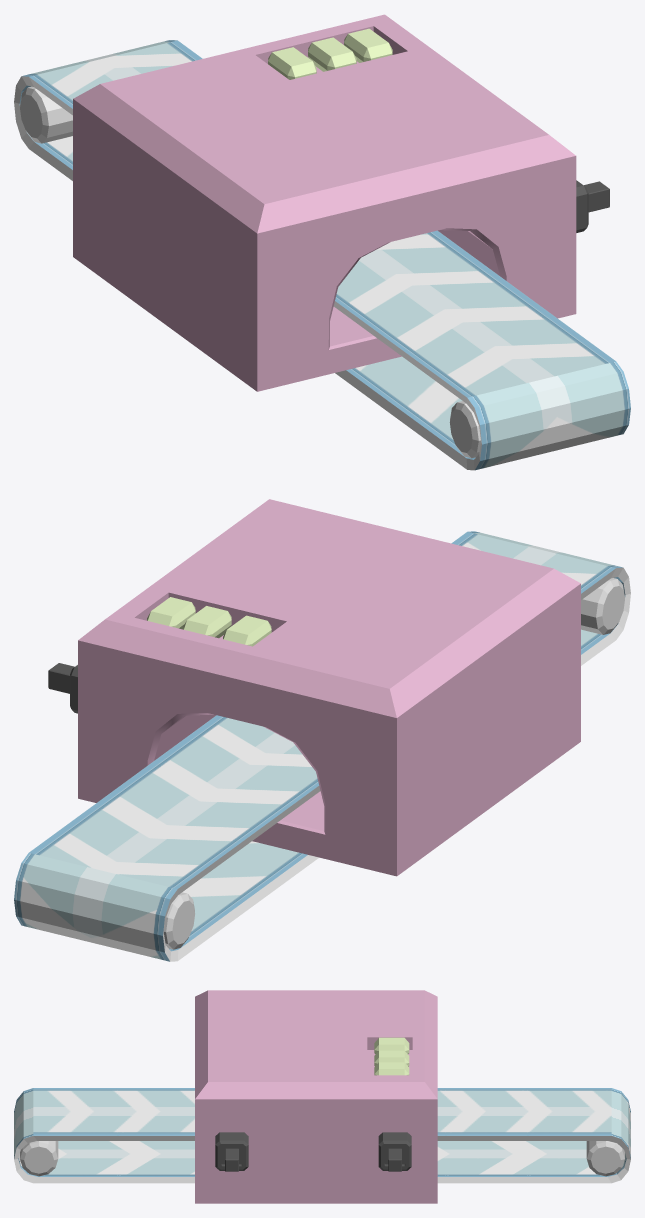
Rendered from MAKINA2.fbx.
3 renders of one model, top to bottom at view 1: azimuth 30°, elevation 25°; view 2: azimuth 150°, elevation 25°; view 3: azimuth 270°, elevation 25°, orthographic. The views are drawn at different scales.
Parts seen in each view (by area): view 1: MAKİNA_1, MAKİNA_11, MAKİNA_111; view 2: MAKİNA_1, MAKİNA_11, MAKİNA_111; view 3: MAKİNA_1, MAKİNA_11, MAKİNA_111.
Boxes of the visible parts, x1,y1,x2,y2 form: MAKİNA_1: [73, 14, 609, 391]; MAKİNA_11: [14, 40, 630, 470]; MAKİNA_111: [20, 86, 480, 458]; MAKİNA_1: [48, 499, 580, 876]; MAKİNA_11: [14, 531, 630, 961]; MAKİNA_111: [164, 578, 624, 949]; MAKİNA_1: [195, 990, 437, 1203]; MAKİNA_11: [14, 1088, 630, 1183]; MAKİNA_111: [20, 1141, 624, 1176].
Bounding box in the file's own units: 823 × 398 × 1773.
